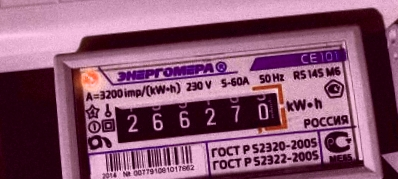0: (255, 100, 269, 122)
2: (123, 111, 139, 134), (202, 105, 216, 127)
6: (175, 109, 190, 129), (150, 111, 164, 132)
7: (227, 103, 242, 125)
screen: (103, 79, 294, 153)
